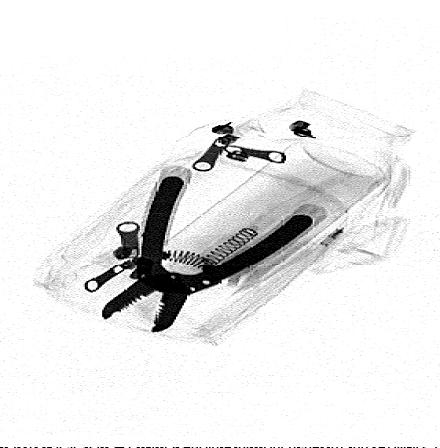Pliers: (103, 175, 317, 335)
